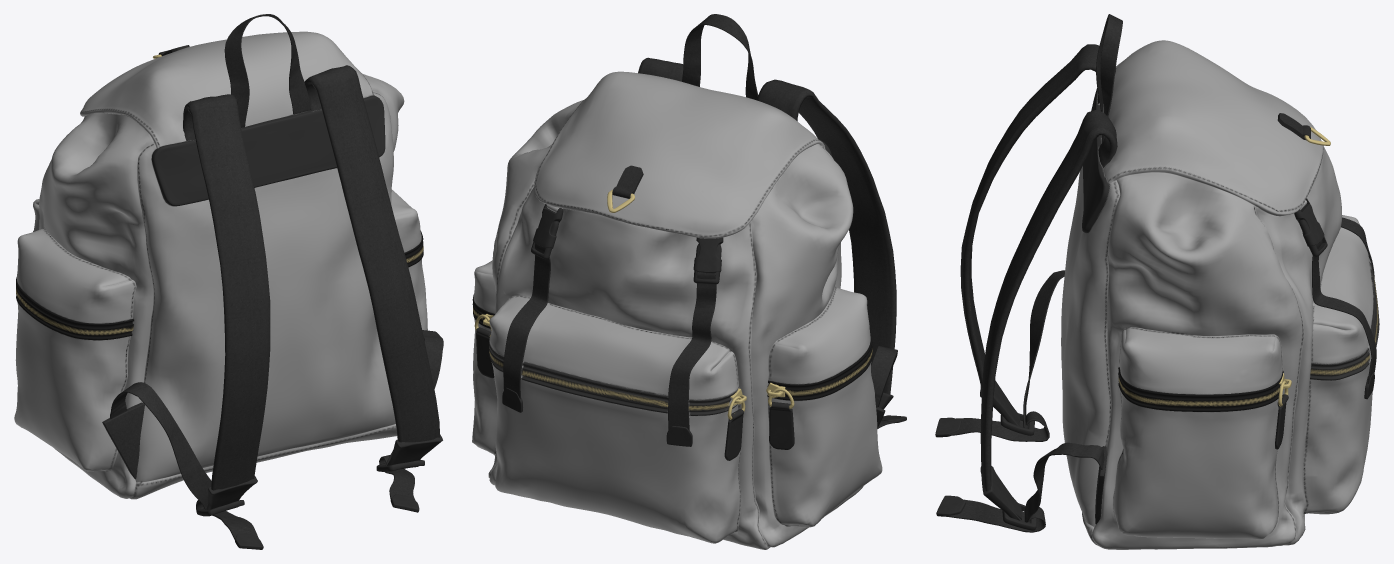
3 views of the same model, side by side, from view 1: azimuth 30°, elevation 25°; view 2: azimuth 150°, elevation 25°; view 3: azimuth 270°, elevation 25° (orthographic). The views are drawn at different scales.
Visible parts, largest first — view 1: Final_0; view 2: Final_0; view 3: Final_0.
Part boxes in pixels (box(x1,y1,x2,y2)): Final_0: box(14, 14, 443, 549); Final_0: box(472, 14, 906, 549); Final_0: box(935, 14, 1379, 549).
Size of the model in its own units: 41.02 by 48.03 by 41.75.
Materials: 1 (1 with a texture image).
